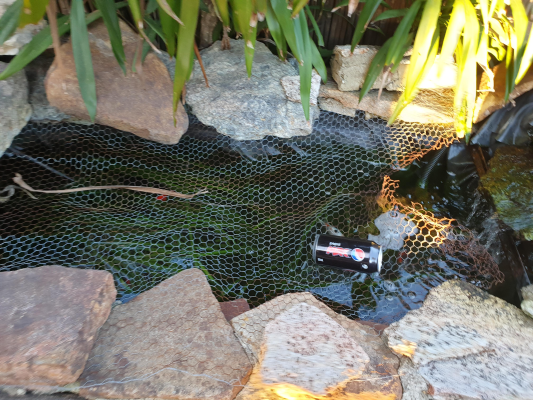Plastic Bottle: (312, 234, 382, 272)
